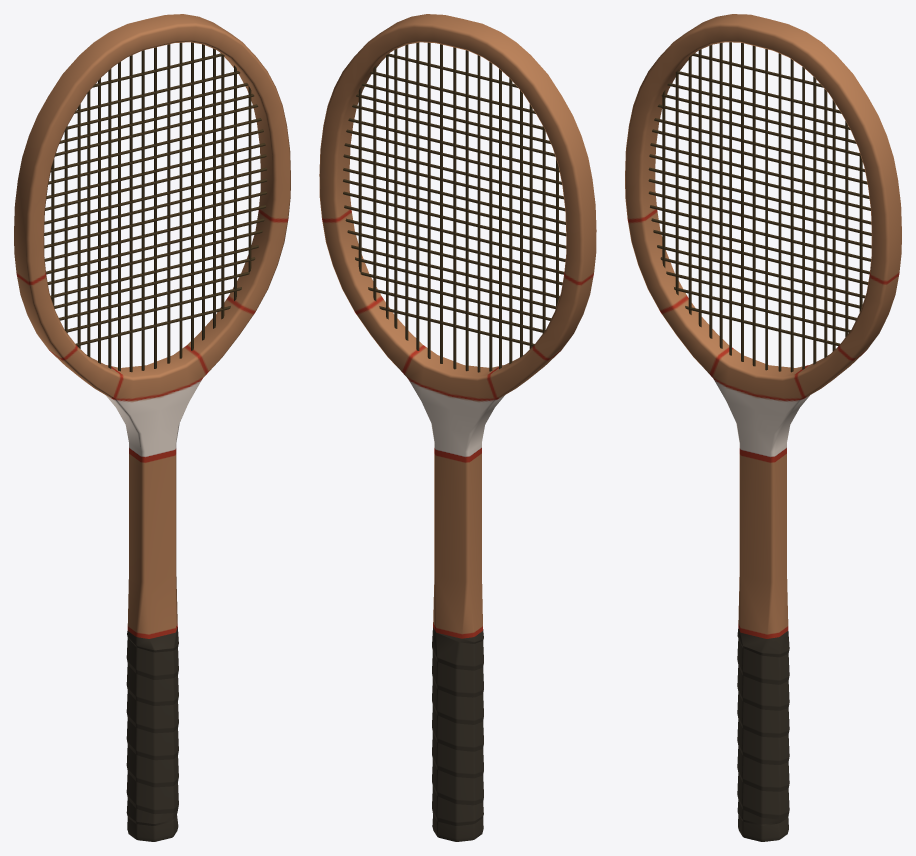
File: Racquet_70s.FBX
3 renders of one model, left to right at view 1: azimuth 30°, elevation 25°; view 2: azimuth 150°, elevation 25°; view 3: azimuth 330°, elevation 25°, orthographic.
Visible parts, largest first — view 1: Object001; view 2: Object001; view 3: Object001.
Part boxes in pixels (bbox=[...]): Object001: bbox=[14, 14, 290, 841]; Object001: bbox=[319, 14, 596, 841]; Object001: bbox=[625, 14, 901, 841].
Size of the model in its own units: 20.51 by 59.93 by 3.11.
1 material, 1 textured.
